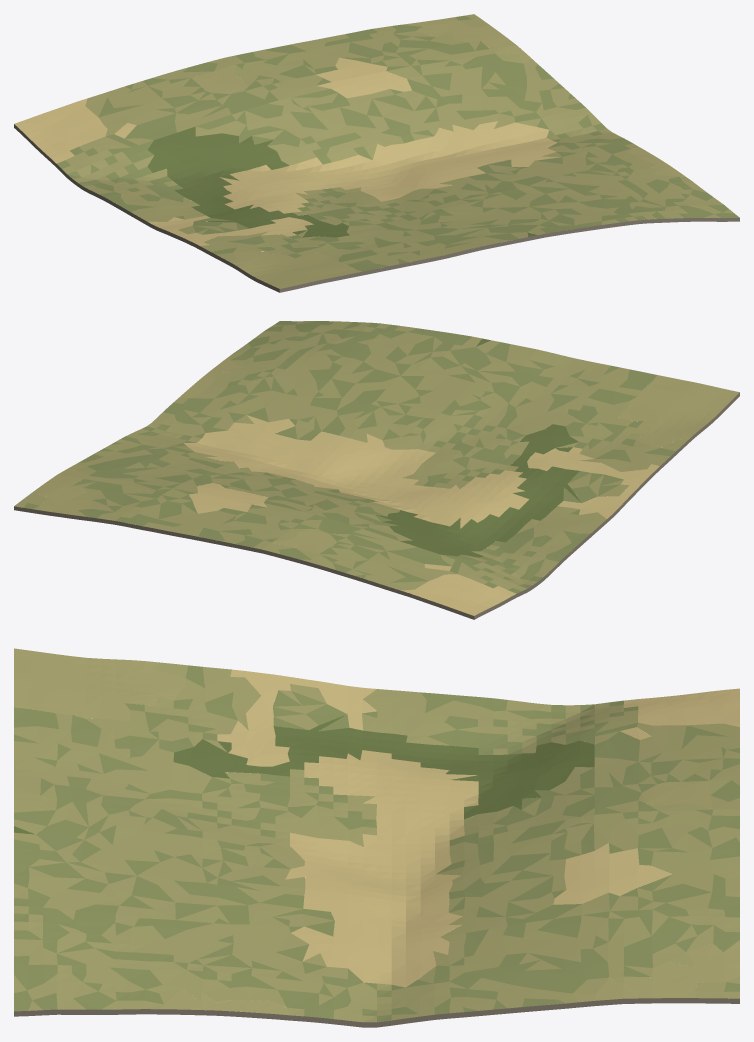
File: parca_+13_-4-uzak.glb
The picture shows the model from 3 angles, top to bottom: view 1: azimuth 30°, elevation 25°; view 2: azimuth 150°, elevation 25°; view 3: azimuth 270°, elevation 25°; orthographic projection. The views are drawn at different scales.
Parts seen in each view (by area): view 1: parca_+13_-4_arazi_uzak; view 2: parca_+13_-4_arazi_uzak; view 3: parca_+13_-4_arazi_uzak.
Part boxes in pixels (x1,y1,x2,y2): parca_+13_-4_arazi_uzak: (14,14,739,292); parca_+13_-4_arazi_uzak: (14,321,739,619); parca_+13_-4_arazi_uzak: (14,648,739,1027).
Size of the model in its own units: 1000 by 110 by 1000.
